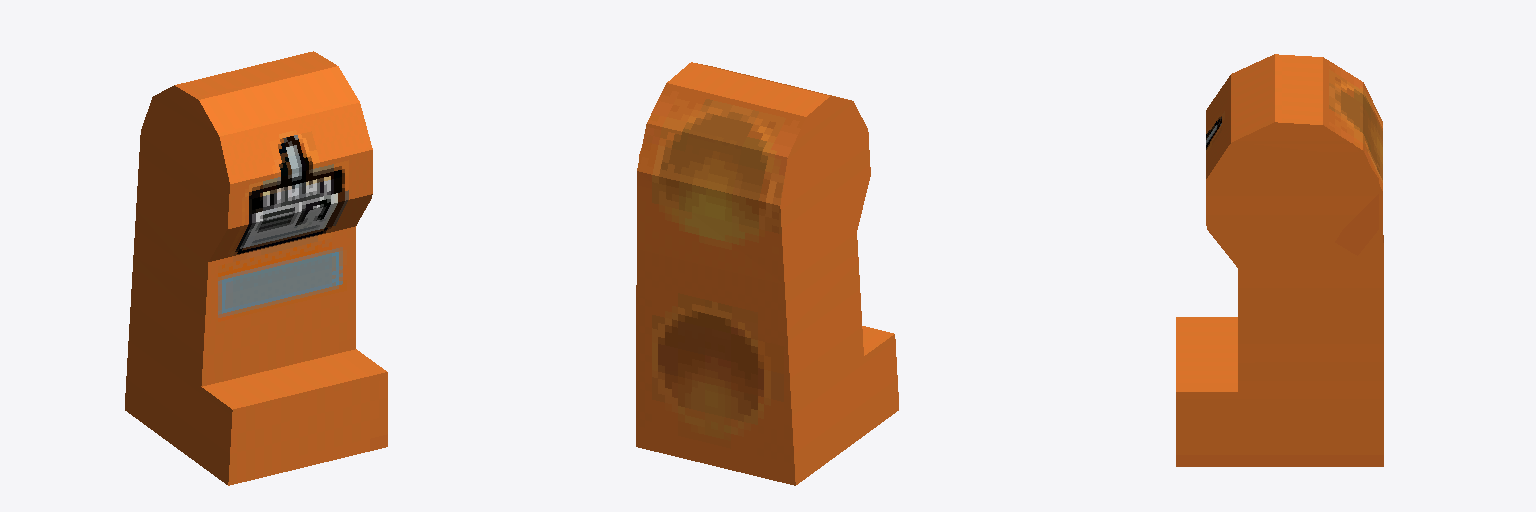
3 views of the same model, side by side, from view 1: azimuth 30°, elevation 25°; view 2: azimuth 150°, elevation 25°; view 3: azimuth 270°, elevation 25° (orthographic).
Visible parts, largest first — view 1: Mesh_0215.rip; view 2: Mesh_0215.rip; view 3: Mesh_0215.rip.
Boxes of the visible parts, x1,y1,x2,y2 form: Mesh_0215.rip: [125, 51, 387, 485]; Mesh_0215.rip: [636, 62, 898, 485]; Mesh_0215.rip: [1176, 54, 1383, 466].
Size of the model in its own units: 0.1523 by 0.3155 by 0.172.
1 materials, 1 textured.